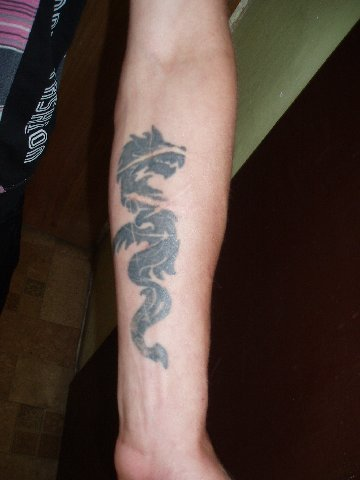tatu6_drakon: (98, 115, 200, 381)
